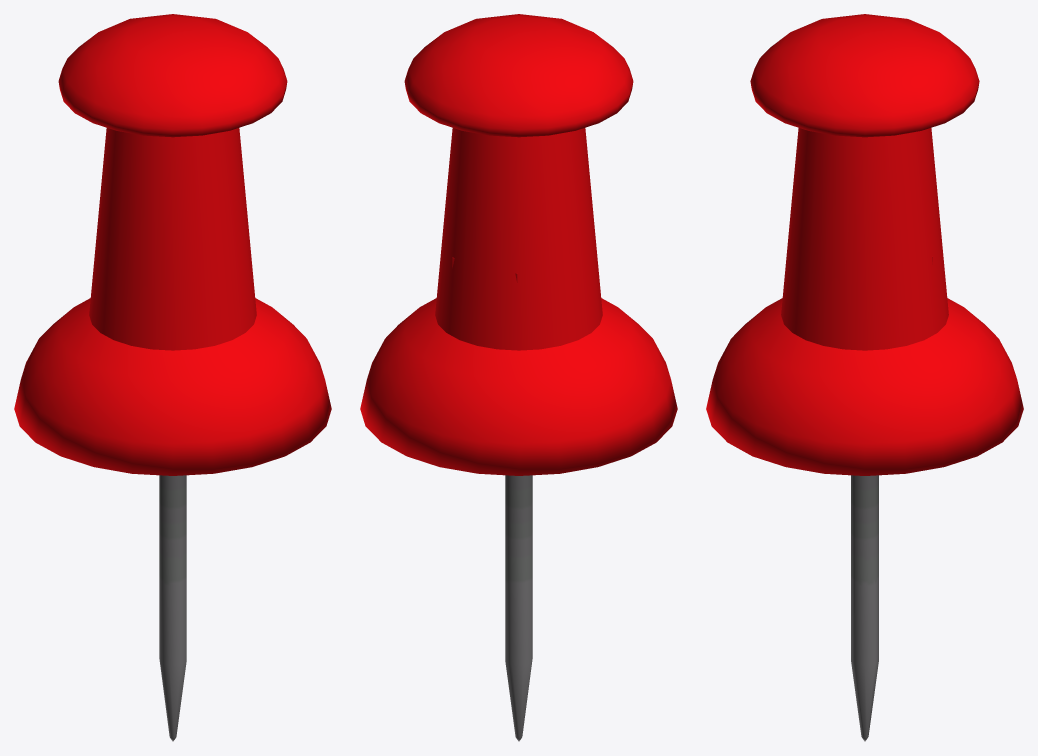
File: thumbtack.glb
3 views of the same model, side by side, from view 1: azimuth 30°, elevation 25°; view 2: azimuth 150°, elevation 25°; view 3: azimuth 270°, elevation 25° (orthographic).
Parts seen in each view (by area): view 1: Object_3, Object_4; view 2: Object_3, Object_4; view 3: Object_3, Object_4.
Part boxes in pixels (x1,y1,x2,y2): Object_3: (14, 14, 331, 475); Object_4: (159, 475, 186, 741); Object_3: (360, 14, 677, 475); Object_4: (505, 475, 532, 741); Object_3: (706, 14, 1023, 475); Object_4: (851, 475, 878, 741).
Bounding box in the file's own units: 18.3 × 45 × 18.3.
Materials: 3 (3 with a texture image).
